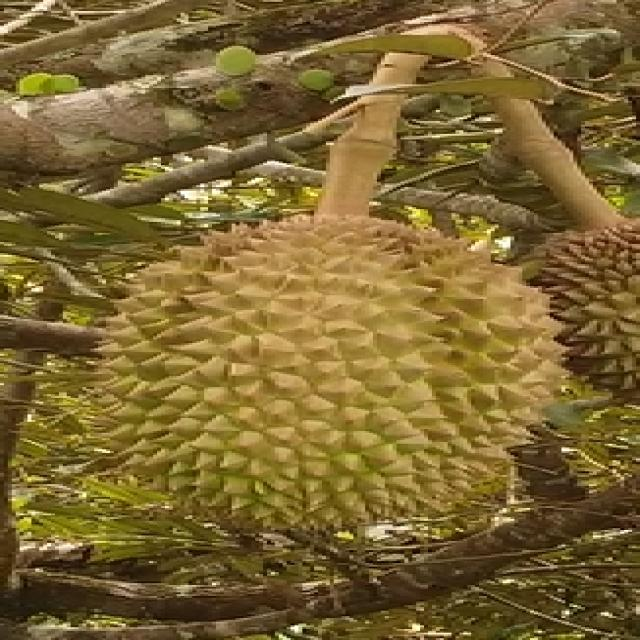mature: (105, 212, 558, 536)
